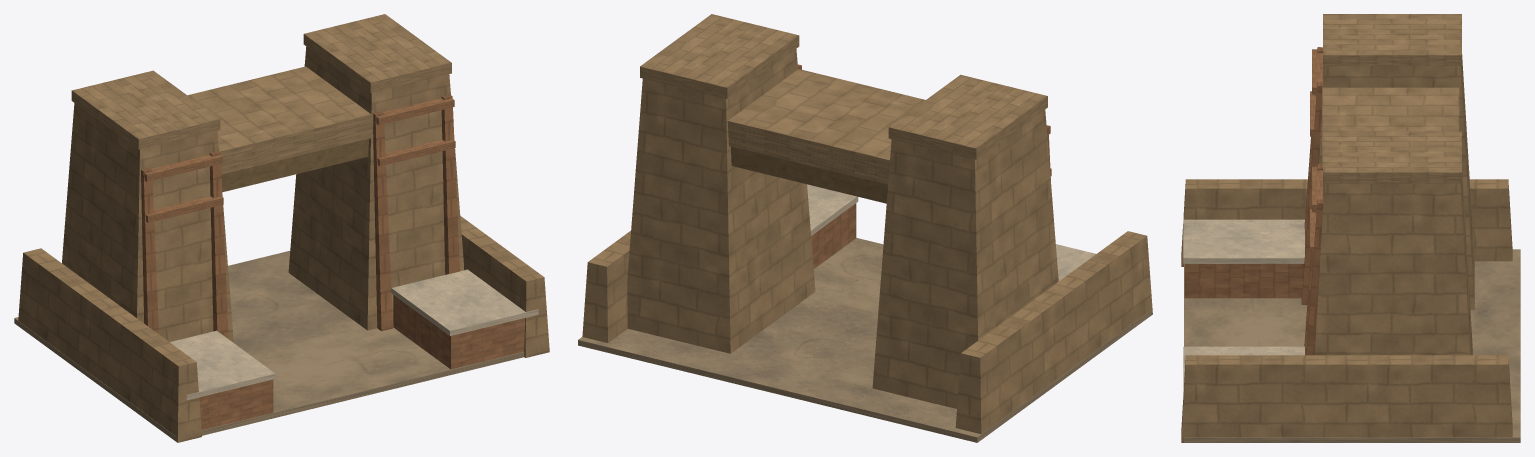
Rendered from ishtarGate.glb.
3 renders of one model, left to right at view 1: azimuth 30°, elevation 25°; view 2: azimuth 150°, elevation 25°; view 3: azimuth 270°, elevation 25°, orthographic. The views are drawn at different scales.
Parts seen in each view (by area): view 1: game-sumer-gate-game-raw-brick-facing, game-sumer-gate-alluvial-earth, game-sumer-gate-game-fired-brick-facing, game-sumer-gate-game-plaster-trim, game-sumer-gate-worn-timber; view 2: game-sumer-gate-game-raw-brick-facing, game-sumer-gate-alluvial-earth, game-sumer-gate-worn-timber, game-sumer-gate-game-plaster-trim, game-sumer-gate-game-fired-brick-facing; view 3: game-sumer-gate-game-raw-brick-facing, game-sumer-gate-alluvial-earth, game-sumer-gate-game-fired-brick-facing, game-sumer-gate-game-plaster-trim.
Part boxes in pixels (<box>): game-sumer-gate-game-raw-brick-facing: <box>18,14,549,442</box>; game-sumer-gate-alluvial-earth: <box>14,251,524,441</box>; game-sumer-gate-game-fired-brick-facing: <box>141,94,525,429</box>; game-sumer-gate-game-plaster-trim: <box>170,269,538,400</box>; game-sumer-gate-worn-timber: <box>221,138,368,192</box>; game-sumer-gate-game-raw-brick-facing: <box>582,14,1152,433</box>; game-sumer-gate-alluvial-earth: <box>578,238,1151,442</box>; game-sumer-gate-worn-timber: <box>730,146,887,203</box>; game-sumer-gate-game-plaster-trim: <box>807,184,1095,281</box>; game-sumer-gate-game-fired-brick-facing: <box>797,64,1051,268</box>; game-sumer-gate-game-raw-brick-facing: <box>1181,14,1512,442</box>; game-sumer-gate-alluvial-earth: <box>1184,249,1520,442</box>; game-sumer-gate-game-fired-brick-facing: <box>1184,47,1323,355</box>; game-sumer-gate-game-plaster-trim: <box>1183,213,1304,396</box>.
Bounding box in the file's own units: 15.6 × 9.87 × 11.88.
5 materials, 5 textured.
